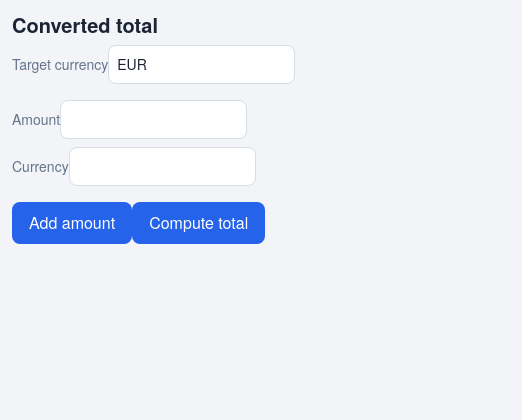
Scenario: ConvertedTotalCard › signale explicitement un agrégat incomplet, jamais un zéro silencieux
Click the button with test id "exchange-submit". click: (199, 223)
box: [132,202,265,244]
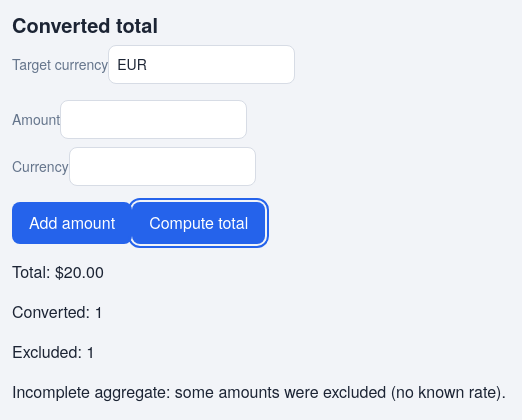
Expected: the message with test id "exchange-incomplete" reads "Incomplete aggregate: some amounts were excluded (no known rate).", [12,380,506,403]
Expected: the text with test id "exchange-excluded" shows "1", [86,340,95,363]
Expected: the text with test id "exchange-total" shows "$20.00", [55,260,104,283]
